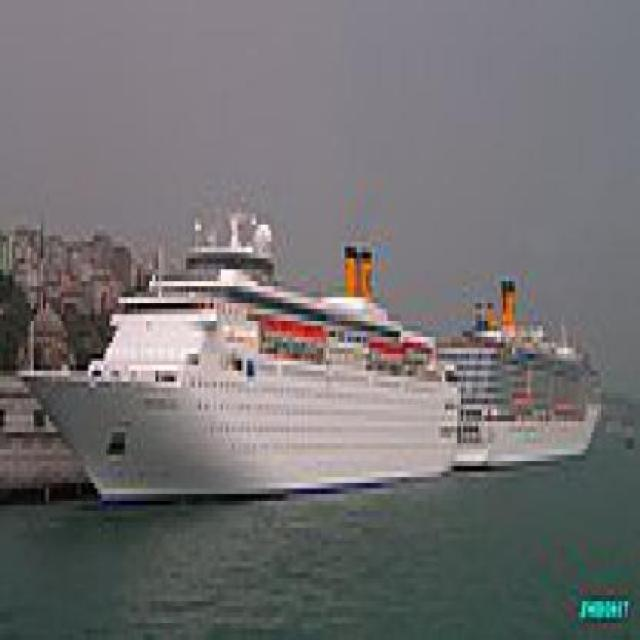cruise: (17, 187, 471, 507), (425, 260, 617, 484)
